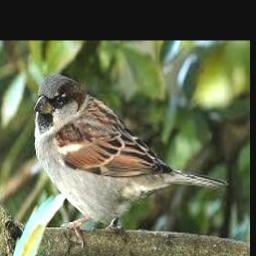Sparrow: (35, 73, 228, 246)
